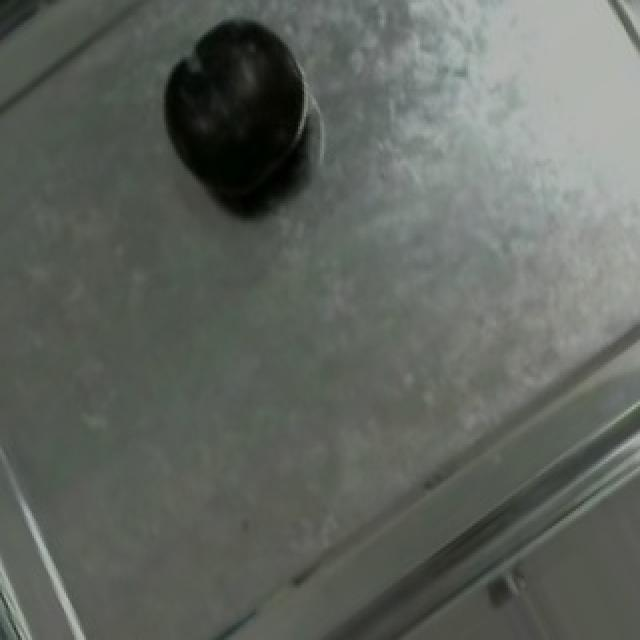Fruit: (138, 0, 328, 221)
